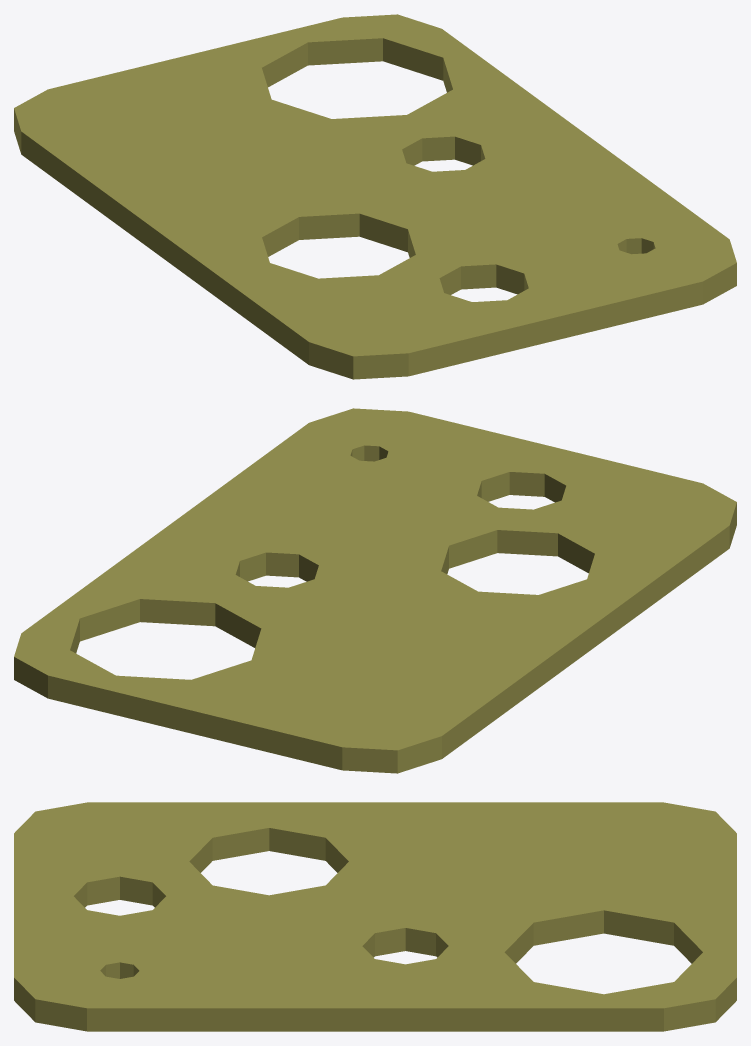
The model's file is SM_CheeseSlice1.fbx.
3 views of the same model, one above another, from view 1: azimuth 30°, elevation 25°; view 2: azimuth 150°, elevation 25°; view 3: azimuth 270°, elevation 25° (orthographic).
Visible parts, largest first — view 1: CheeseSlice1; view 2: CheeseSlice1; view 3: CheeseSlice1.
Boxes of the visible parts, bbox=[...] form: CheeseSlice1: bbox=[14, 14, 736, 379]; CheeseSlice1: bbox=[14, 408, 736, 773]; CheeseSlice1: bbox=[14, 802, 736, 1031].
Bounding box in the file's own units: 11.41 × 0.6 × 16.95.
